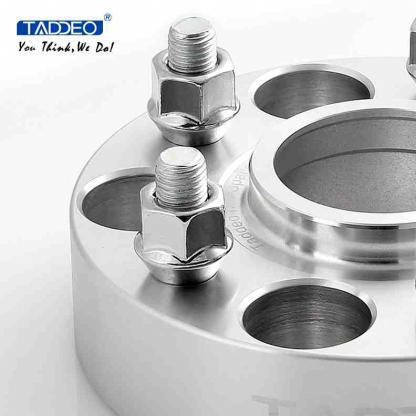FOD: (62, 44, 415, 416)
